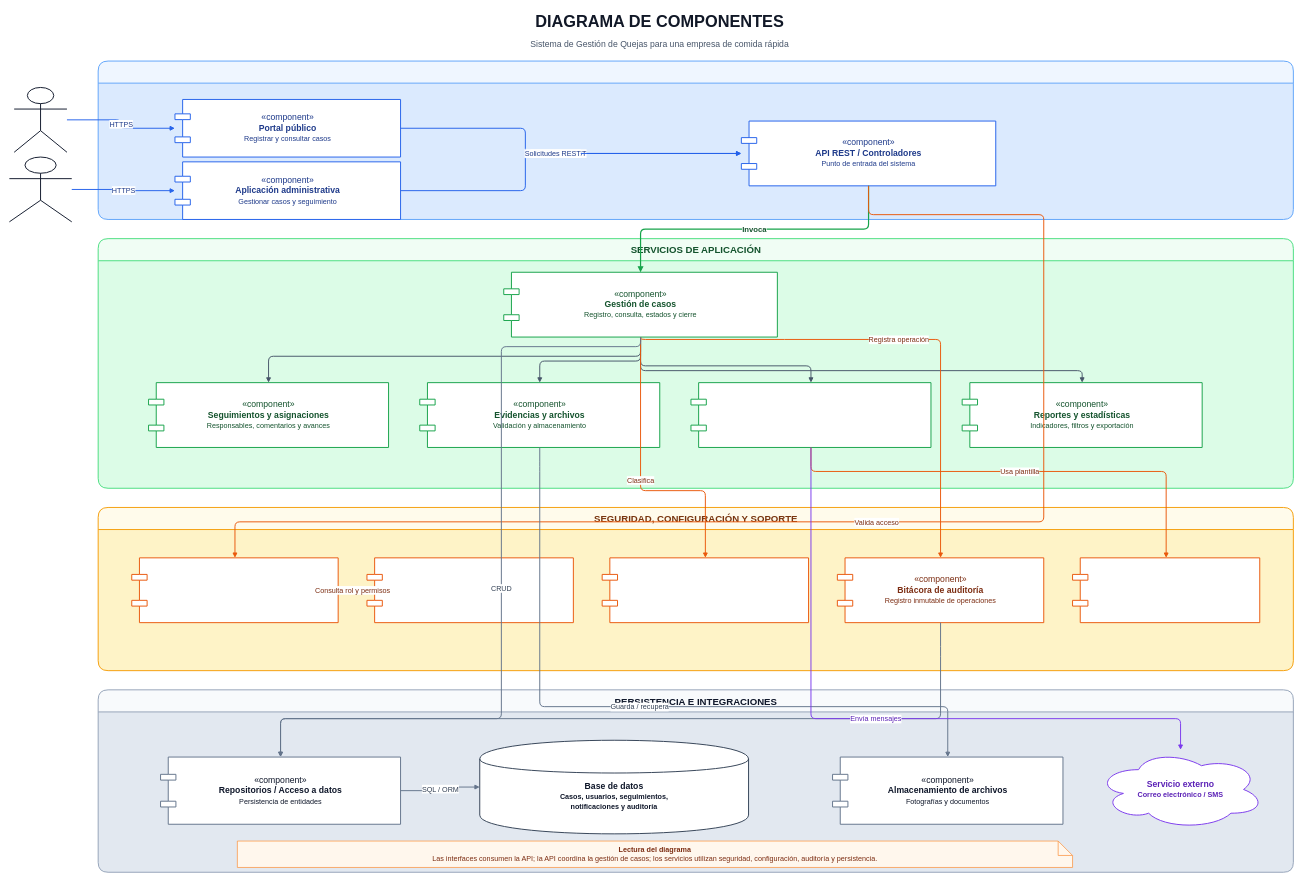
Image size: 1302x881. Some labels were removed from this diagram. Here are the shapes that lost their labels. From the top down, the box of each, then its label:
(13, 87, 67, 152): Cliente
(97, 60, 1294, 220): CAPA DE PRESENTACIÓN
(9, 156, 72, 222): Personal interno
(690, 382, 931, 448): «component» Notificaciones Avisos por registro, cambio y cierre
(131, 557, 338, 623): «component» Autenticación y autorización Inicio de sesión y control de acceso
(366, 557, 574, 623): «component» Usuarios, roles y permisos Administración de cuentas internas
(601, 557, 809, 623): «component» Sucursales y categorías Parámetros de clasificación
(1072, 557, 1260, 623): «component» Plantillas de notificación Mensajes configurables
